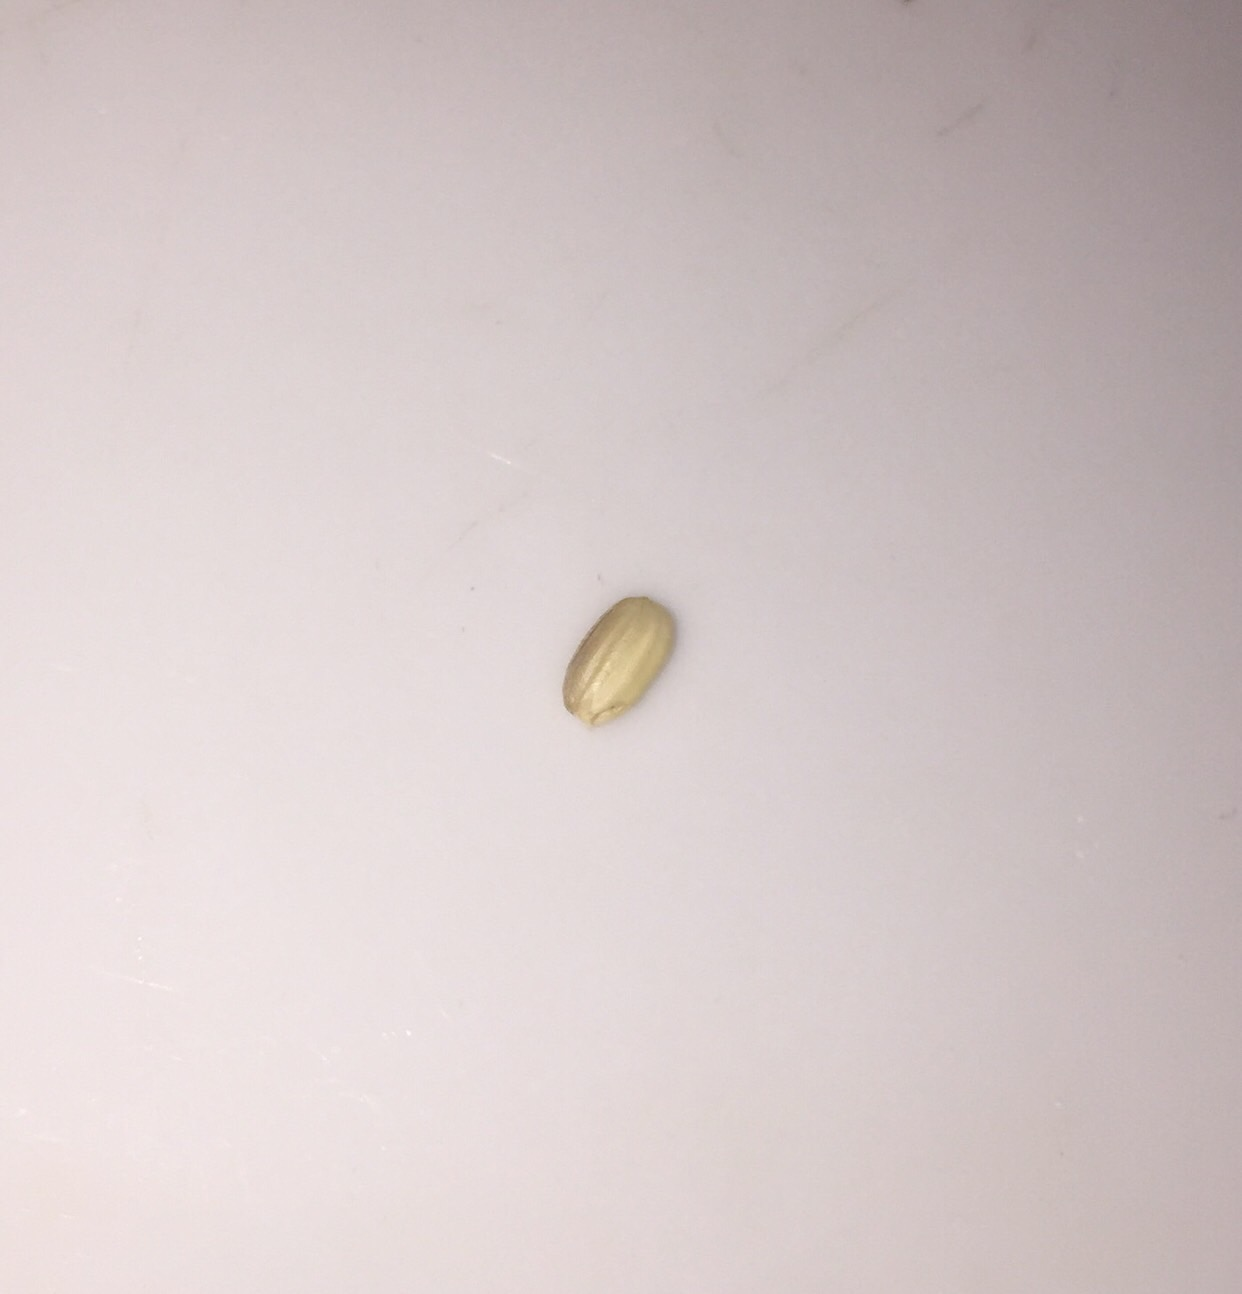Gao Lut Bac: (546, 580, 681, 741)
